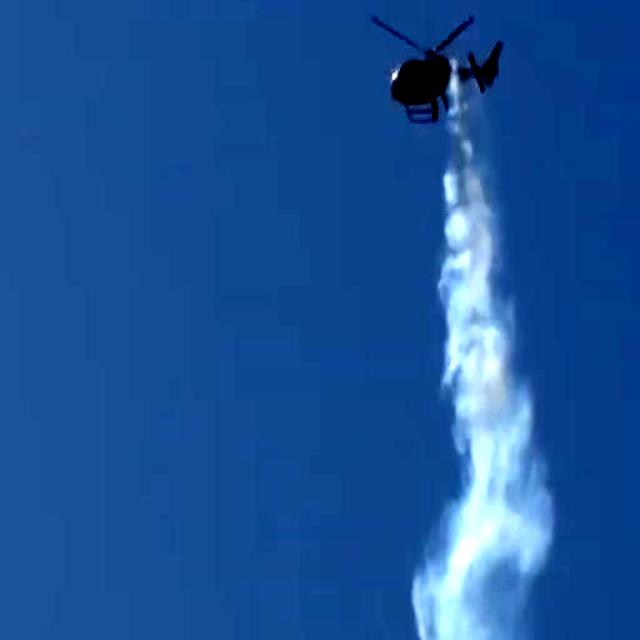drone: (372, 6, 510, 126)
